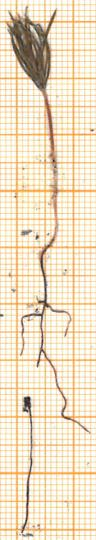flower: (3, 0, 60, 96)
root: (11, 230, 93, 443)
stem: (33, 95, 70, 233)
